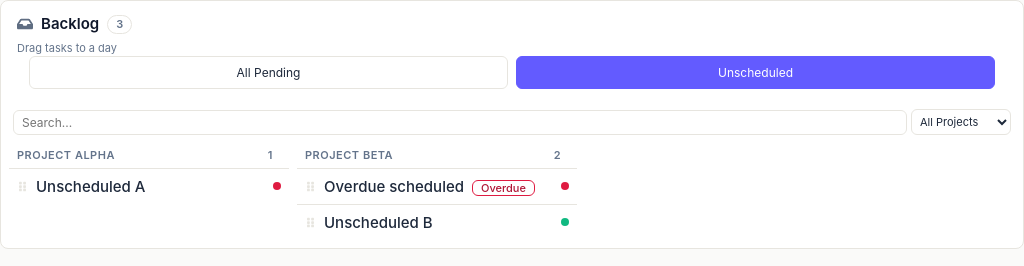
Scenario: BacklogSidebar › filters by project and search query
Select "Project Beta" in the dropdown showing "All Projects" at [961, 122], box [911,109,1011,135]
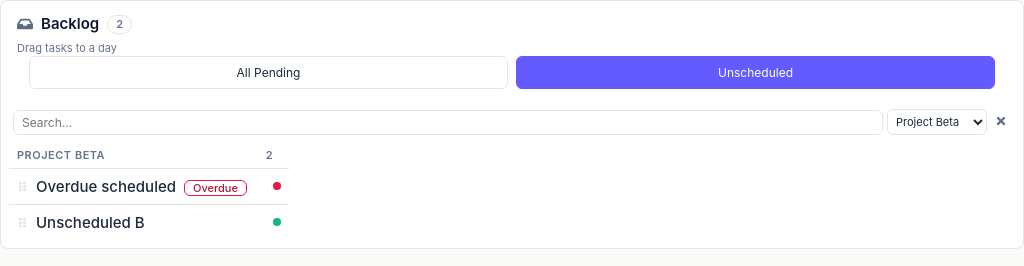
Type "overdue" into the field with placeholder "Search...".
click(448, 122); type("overdue")  # box [13,110,883,134]
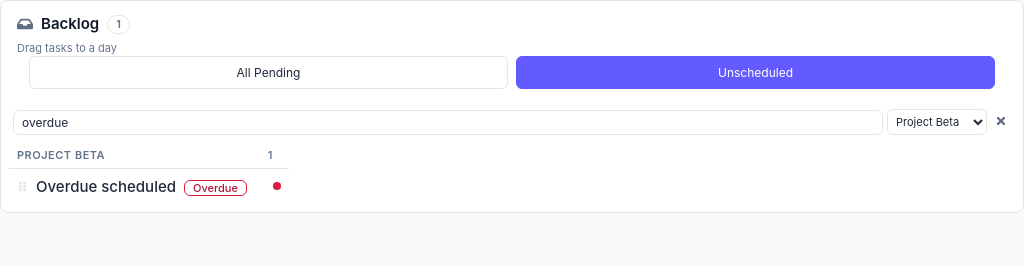
Expected: the button "Overdue scheduled" is shown, [36,176,265,196]
Now the button "Unscheduled B" is gone
